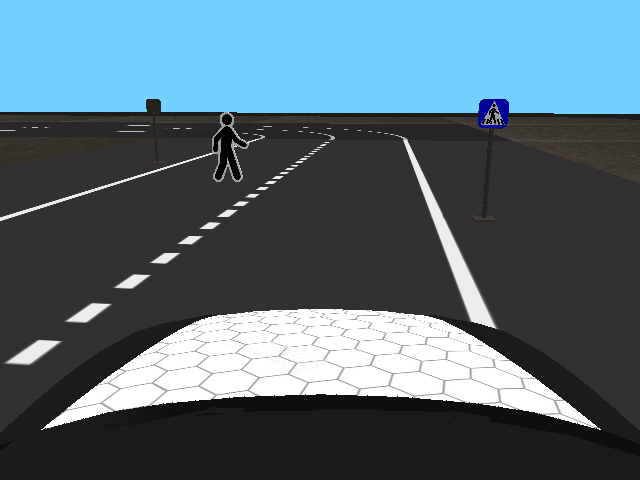pedestrian: (210, 112, 249, 183)
pedestrian_cross: (477, 98, 510, 130)
